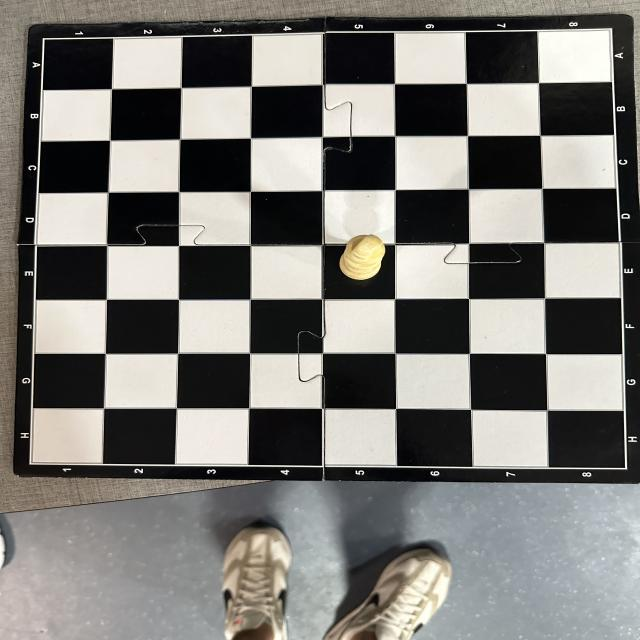White-King: (338, 234, 386, 281)
